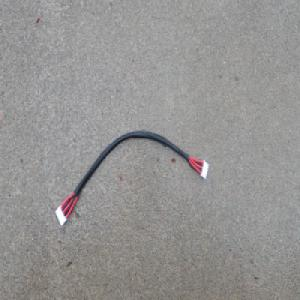Wire: (54, 128, 210, 227)
